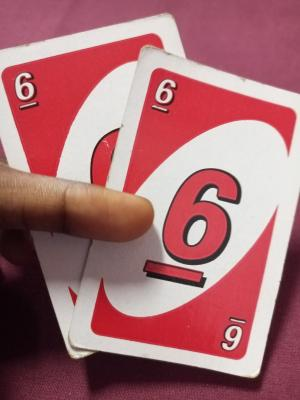num_6: (146, 71, 183, 121)
